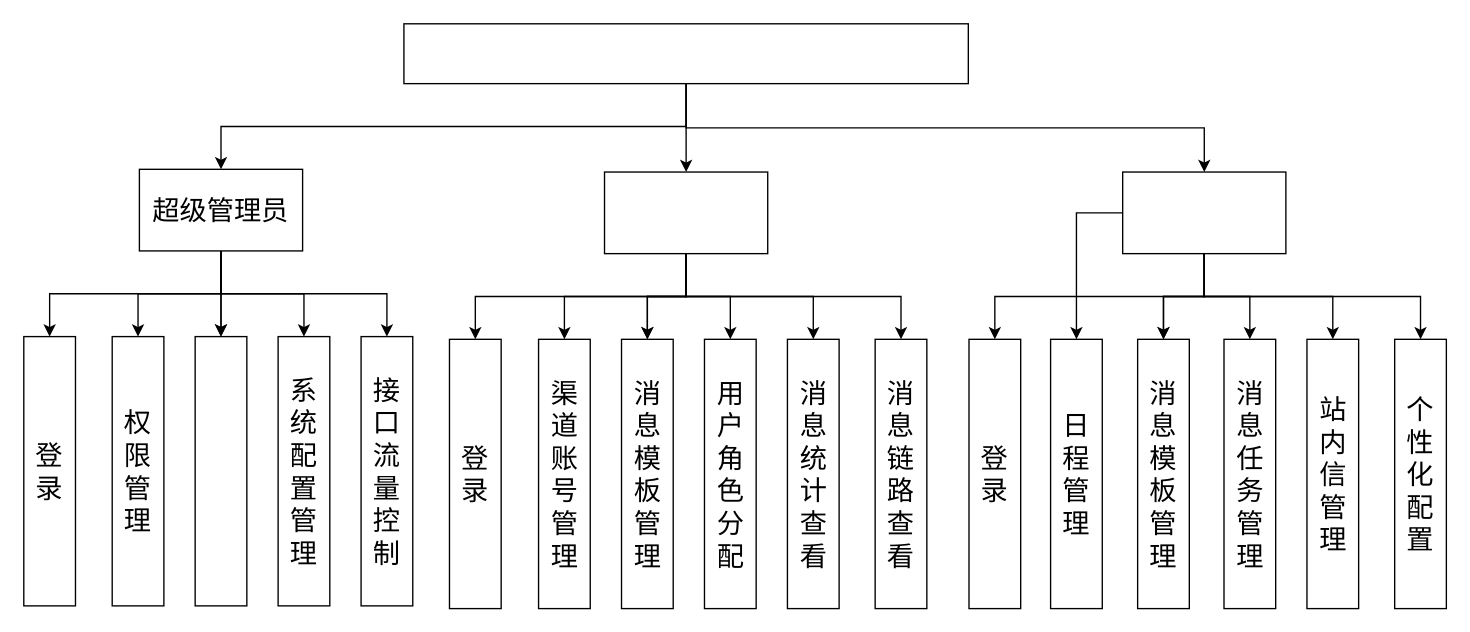
This 1470x632 diagram has some shape labels left out. Each missing label, with the box of its shape:
基于SpringCloud的多渠道消息推送平台: (403, 22, 968, 84)
普通用户: (1121, 171, 1286, 254)
管理员: (603, 171, 768, 254)
角色管理: (194, 335, 247, 606)
